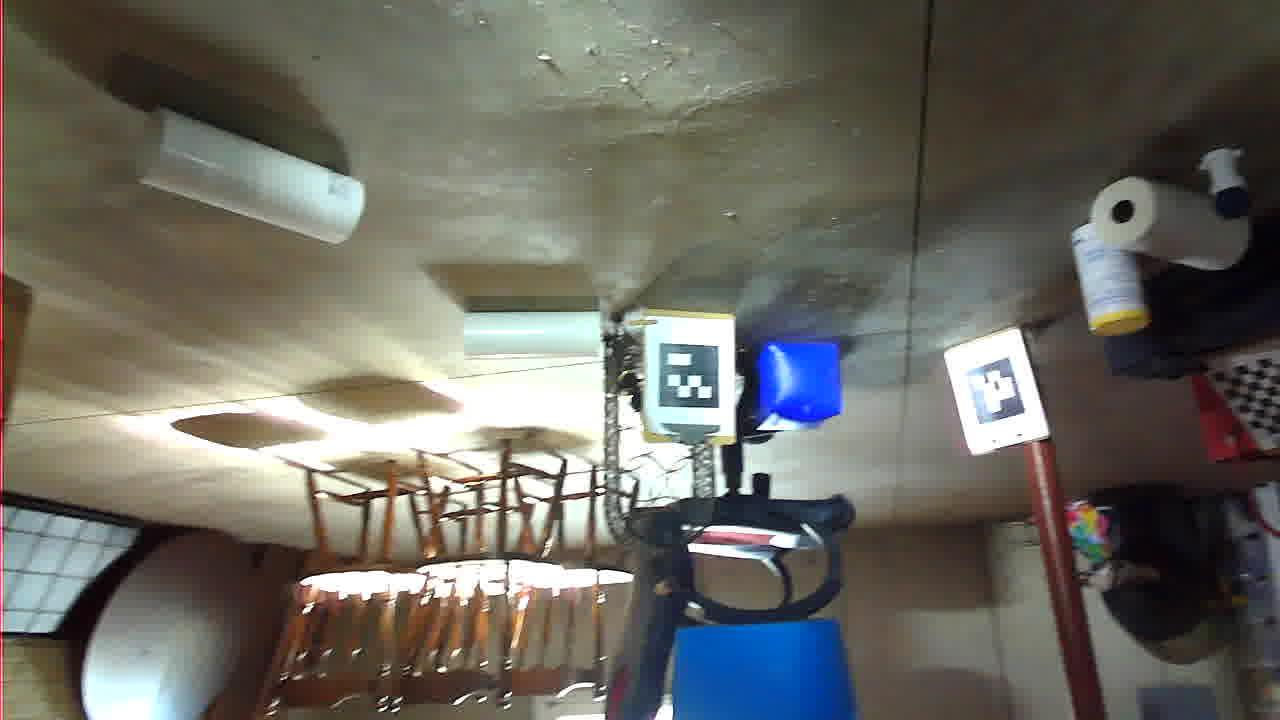coral: (917, 477, 1138, 616), (677, 359, 816, 409)
